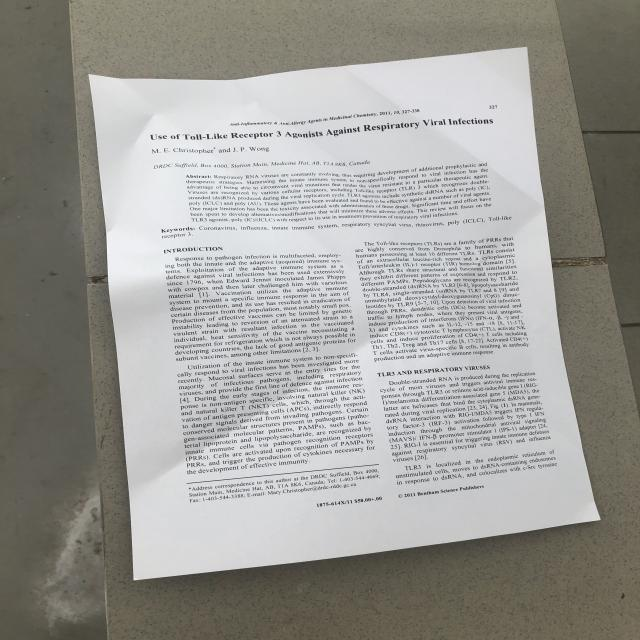kertas: (89, 34, 601, 580)
